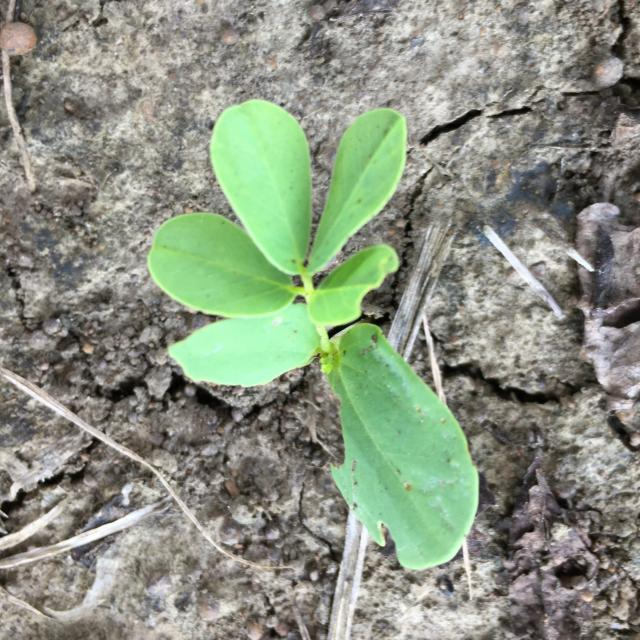Sicklepod: (148, 99, 479, 570)
